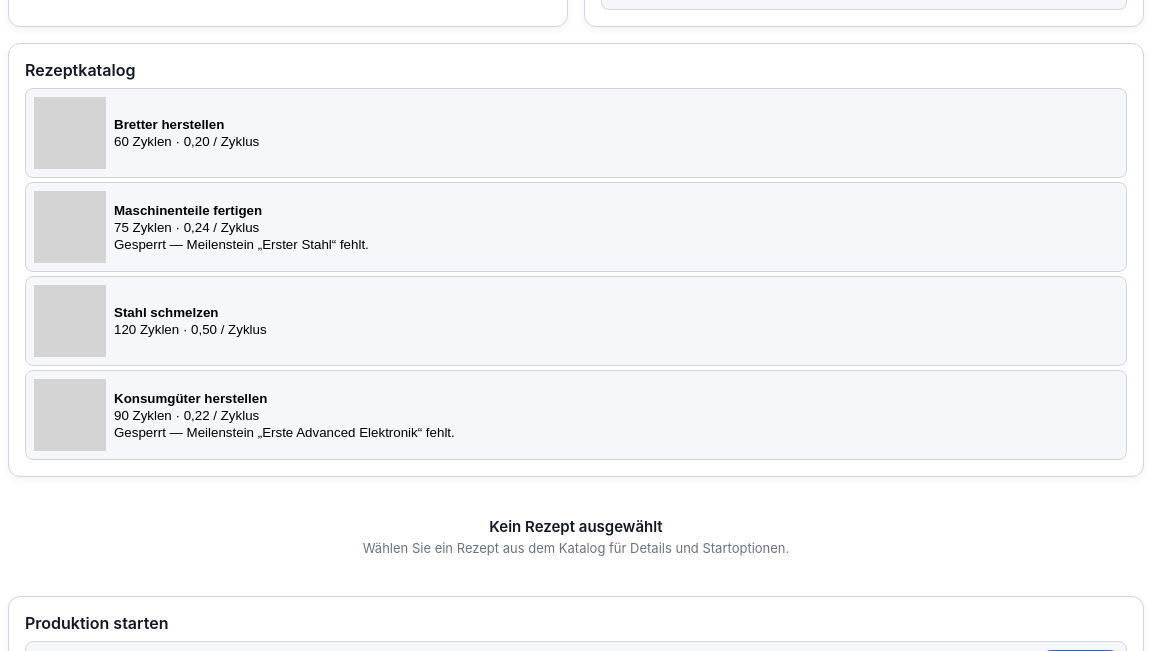
Test: ProductionScreen › updates Weiterverwendung when switching catalog recipes
(page scrolled)
What coordinates should you click on to do the following:
click the button "Stahl schmelzen 120 Zyklen · 0,50 / Zyklus"
I would click on:
 (70, 321)
Its box is [25,276,1127,366].
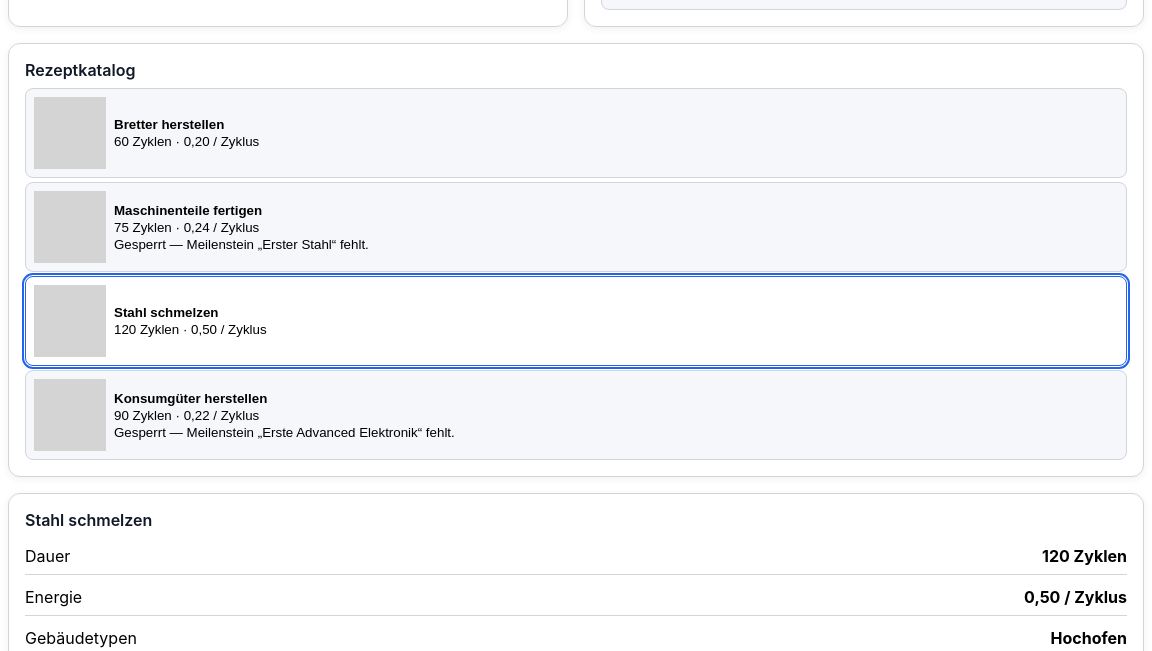
What coordinates should you click on to do the following:
click the button "Bretter herstellen 60 Zyklen · 0,20 / Zyklus"
I would click on:
 (70, 133)
Its box is [25,88,1127,178].
(page scrolled)
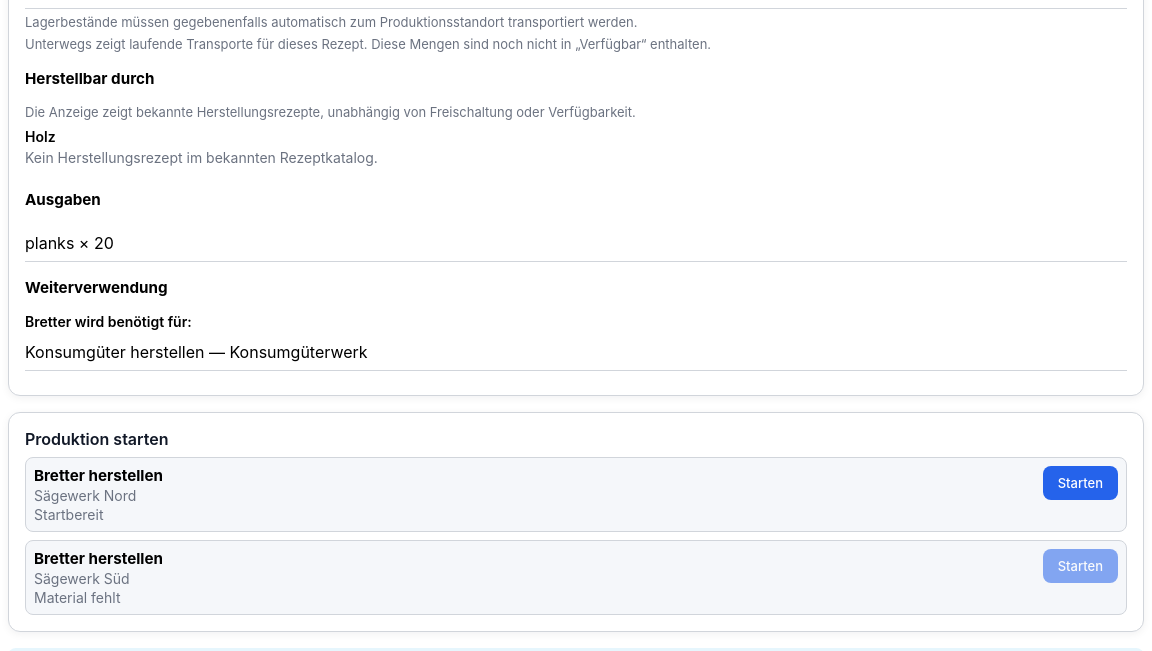
Expected: the text "Bretter wird benötigt für:" is shown, [25,313,192,330]
